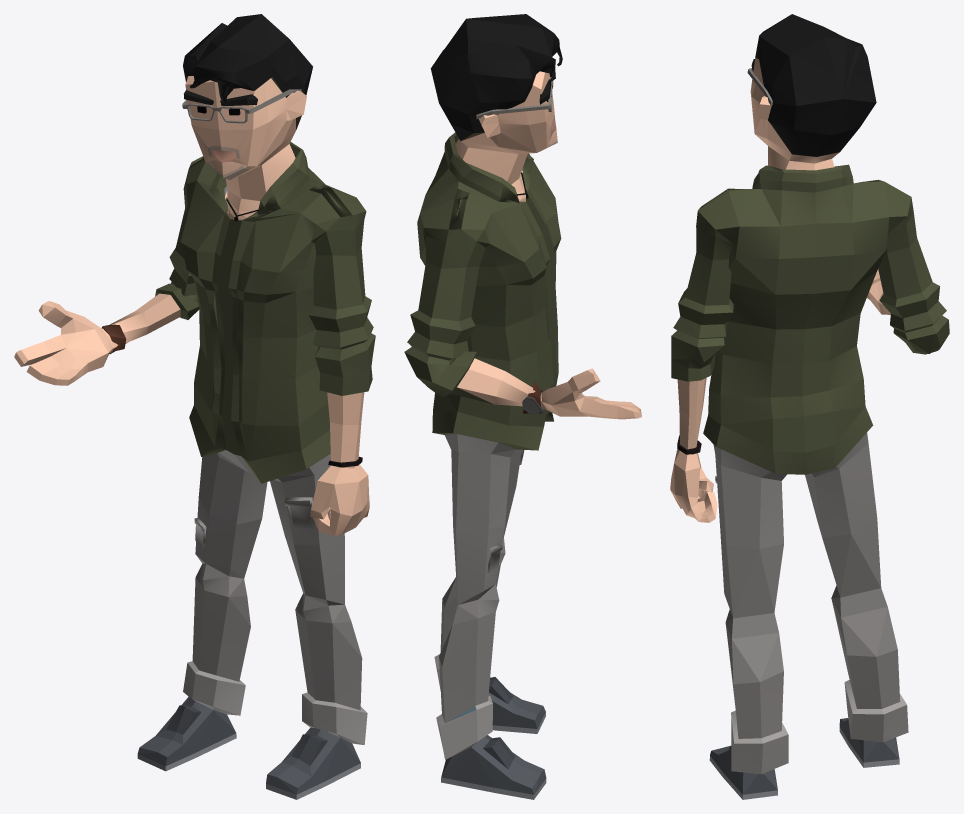
Rendered from brendan.fbx.
3 views of the same model, side by side, from view 1: azimuth 30°, elevation 25°; view 2: azimuth 150°, elevation 25°; view 3: azimuth 270°, elevation 25° (orthographic).
Parts seen in each view (by area): view 1: Brendan.008; view 2: Brendan.008; view 3: Brendan.008.
Boxes of the visible parts, bbox=[...] form: Brendan.008: bbox=[14, 14, 375, 799]; Brendan.008: bbox=[404, 14, 641, 799]; Brendan.008: bbox=[670, 14, 949, 799].
Bounding box in the file's own units: 74.26 × 194 × 66.7.
Materials: 1 (1 with a texture image).
